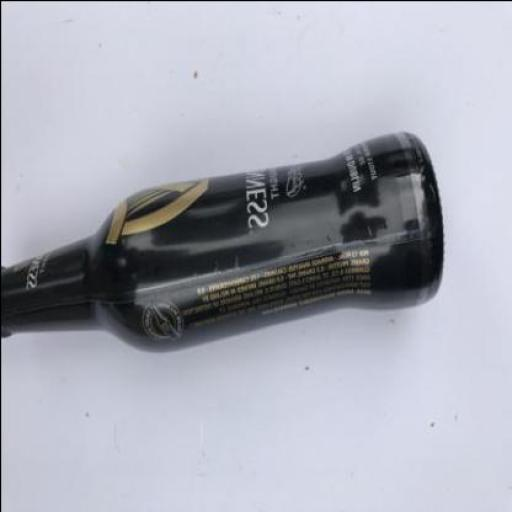glass: (2, 130, 444, 350)
